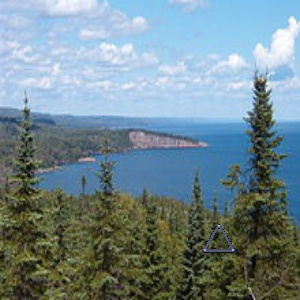triangle: (201, 223, 235, 254)
